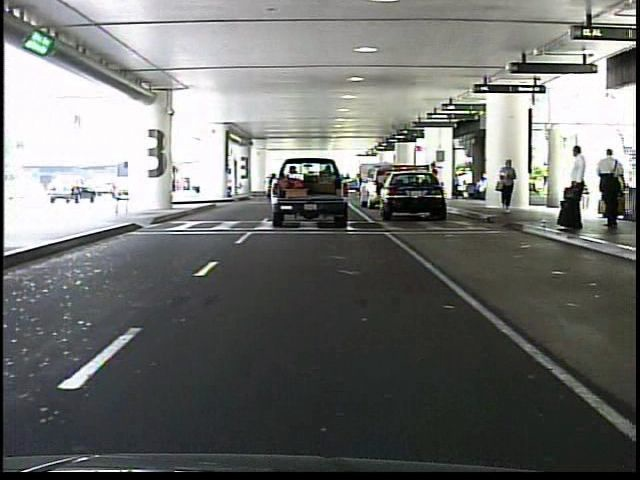person: (558, 141, 591, 235), (595, 144, 628, 232), (497, 152, 522, 218), (428, 159, 443, 203)
